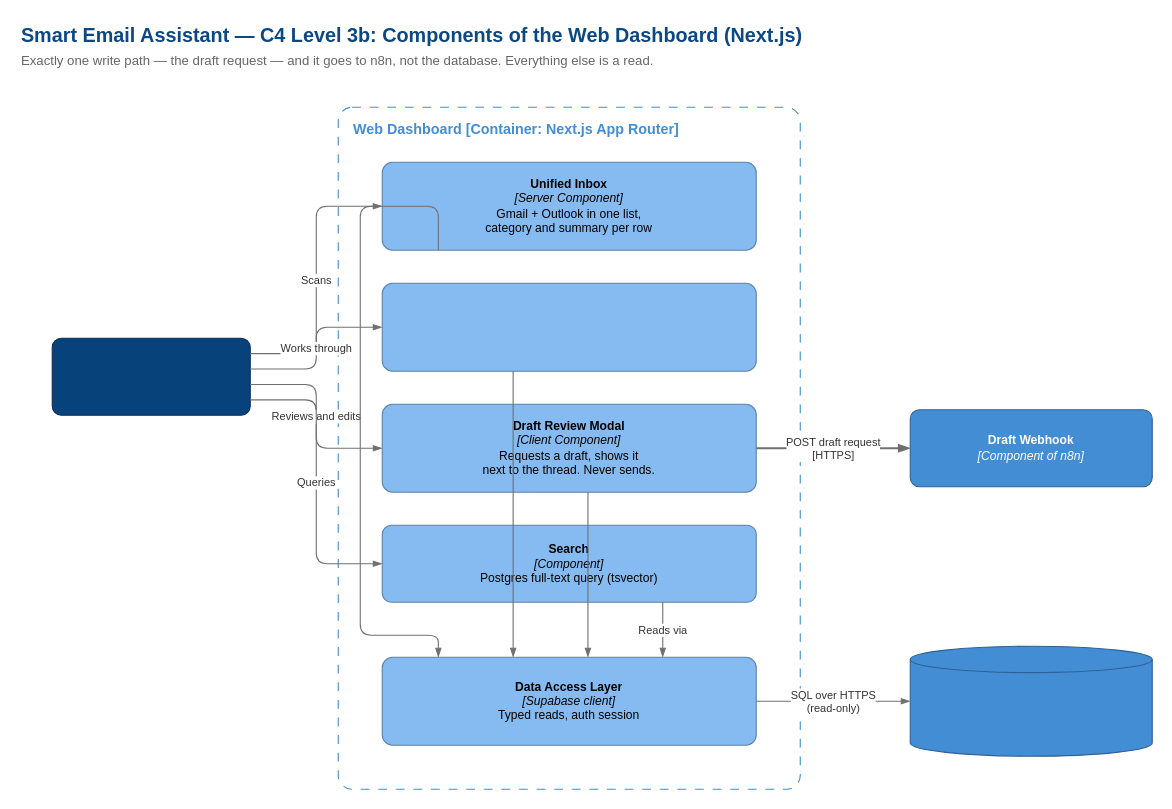
Some shapes in this 1172 by 809 pixel diagram are drawn without their labels. The centre of each missing label's shape, as x and y in pixels:
"Action Item Sidebar [Component] Tasks shown beside their source email" belongs at (568,326).
"Database [Container: Supabase]" belongs at (1030,700).
"User [Person]" belongs at (150,376).
